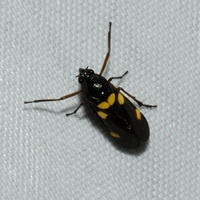insect: (24, 22, 156, 147)
